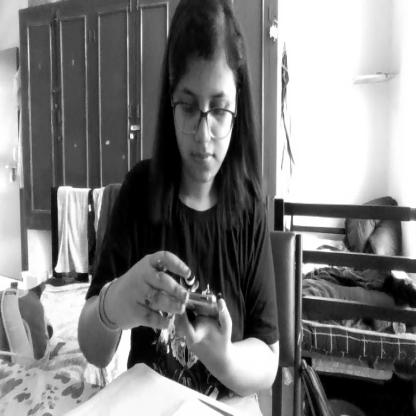Normal: (166, 0, 242, 189)
